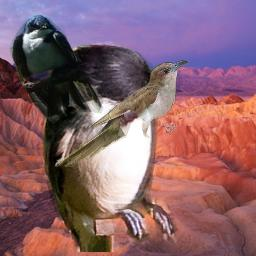Cuckoo: (54, 60, 189, 168)
Swallow: (39, 38, 182, 252), (9, 12, 105, 128)
